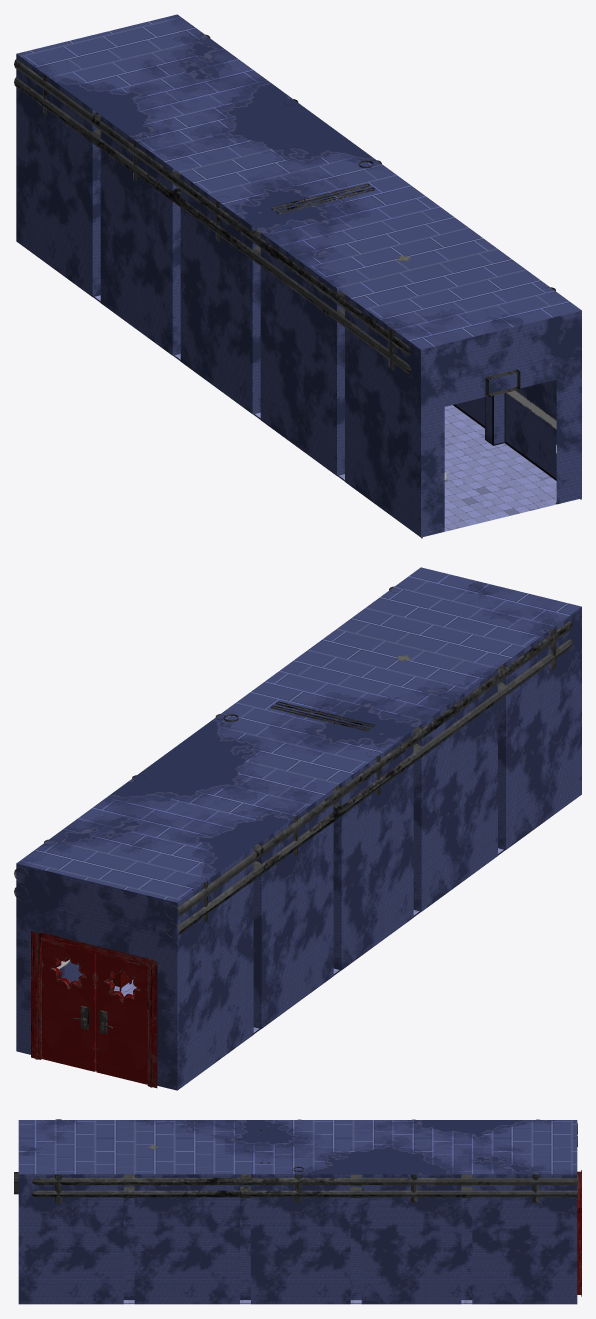
File: Corridor_Lift.fbx
3 views of the same model, one above another, from view 1: azimuth 30°, elevation 25°; view 2: azimuth 150°, elevation 25°; view 3: azimuth 270°, elevation 25° (orthographic). The views are drawn at different scales.
Visible parts, largest first — view 1: Wall, Roof, polySurface193, Floor, Body; view 2: Wall, Roof, polySurface193, polySurface132, polySurface133, polySurface183, Body; view 3: Wall, Roof, polySurface193, polySurface183, polySurface132.
Boxes of the visible parts, left/top/right/bottom form: Wall: left=16, top=54, right=581, bottom=537; Roof: left=17, top=14, right=581, bottom=349; polySurface193: left=14, top=34, right=555, bottom=373; Floor: left=93, top=295, right=556, bottom=531; Body: left=271, top=183, right=375, bottom=214; Wall: left=16, top=607, right=581, bottom=1090; Roof: left=16, top=567, right=581, bottom=902; polySurface193: left=14, top=586, right=572, bottom=937; polySurface132: left=42, top=940, right=96, bottom=1071; polySurface133: left=96, top=953, right=147, bottom=1084; polySurface183: left=31, top=931, right=157, bottom=1088; Body: left=271, top=701, right=375, bottom=731; Wall: left=18, top=1174, right=577, bottom=1304; Roof: left=18, top=1120, right=577, bottom=1174; polySurface193: left=32, top=1119, right=577, bottom=1203; polySurface183: left=577, top=1170, right=581, bottom=1296; polySurface132: left=577, top=1198, right=579, bottom=1294.
Size of the model in its own units: 9.55 by 10.51 by 41.13.
